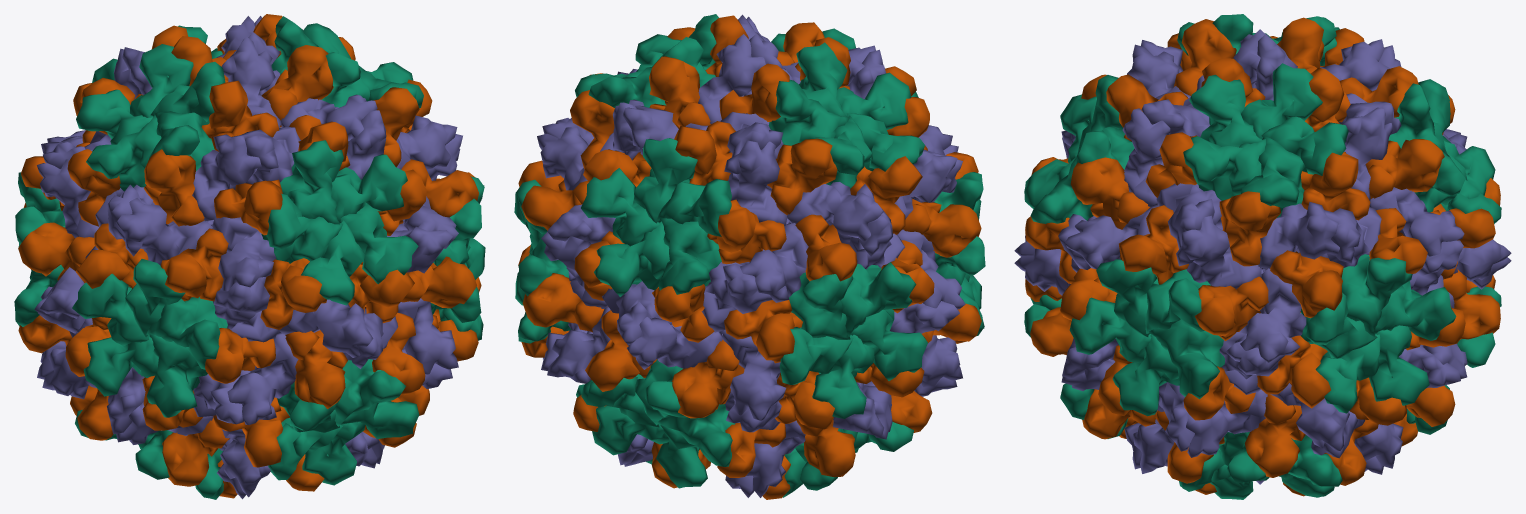
File: 2TBV(2).glb
The picture shows the model from 3 angles, left to right: view 1: azimuth 30°, elevation 25°; view 2: azimuth 150°, elevation 25°; view 3: azimuth 270°, elevation 25°; orthographic projection.
Size of the model in its own units: 354 by 354 by 354.
